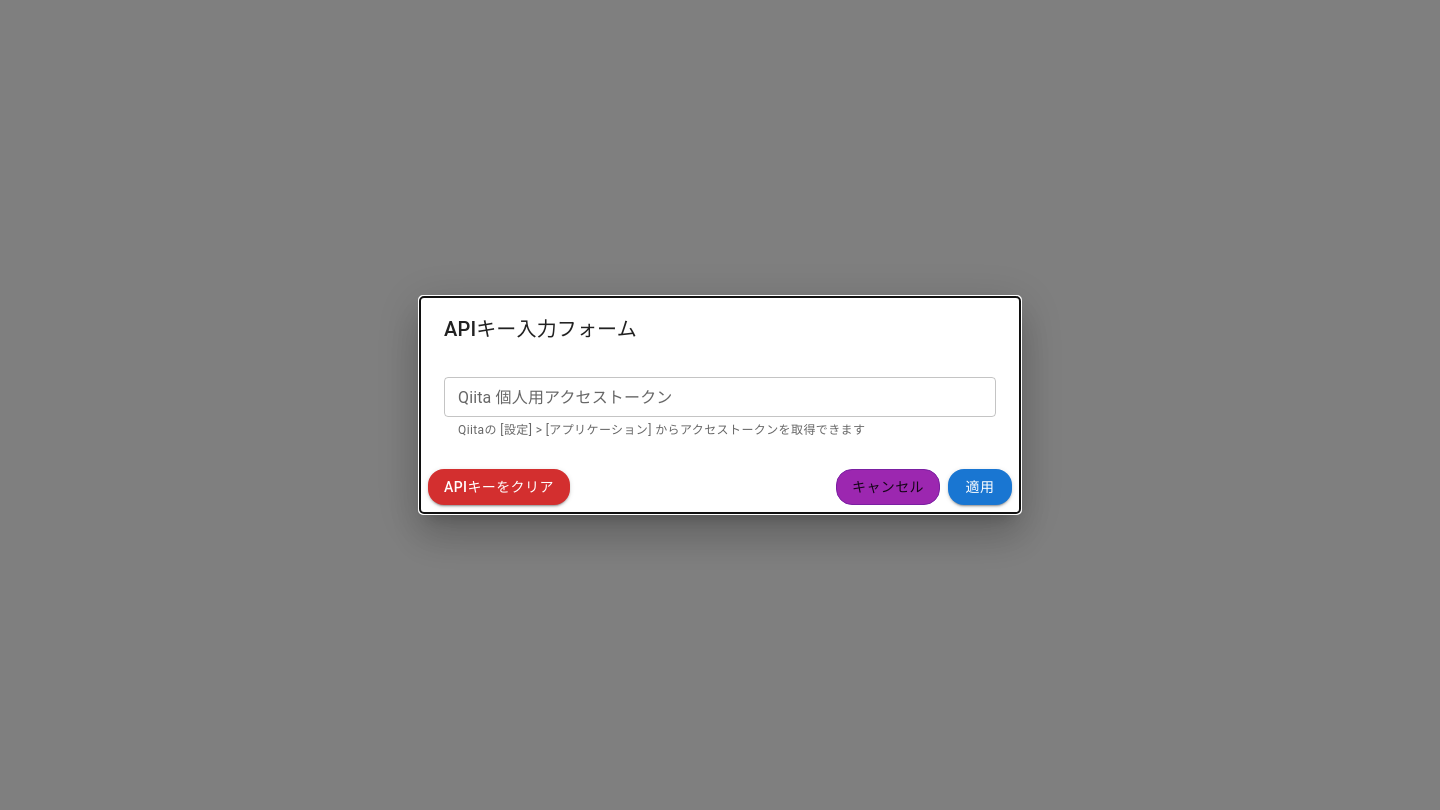
it: ApiKeyForm › shows error when applying with empty input
This screenshot has width=1440, height=810.
# 「適用」をクリック
Click the button "適用" at (980, 487), box [948,469,1012,505]
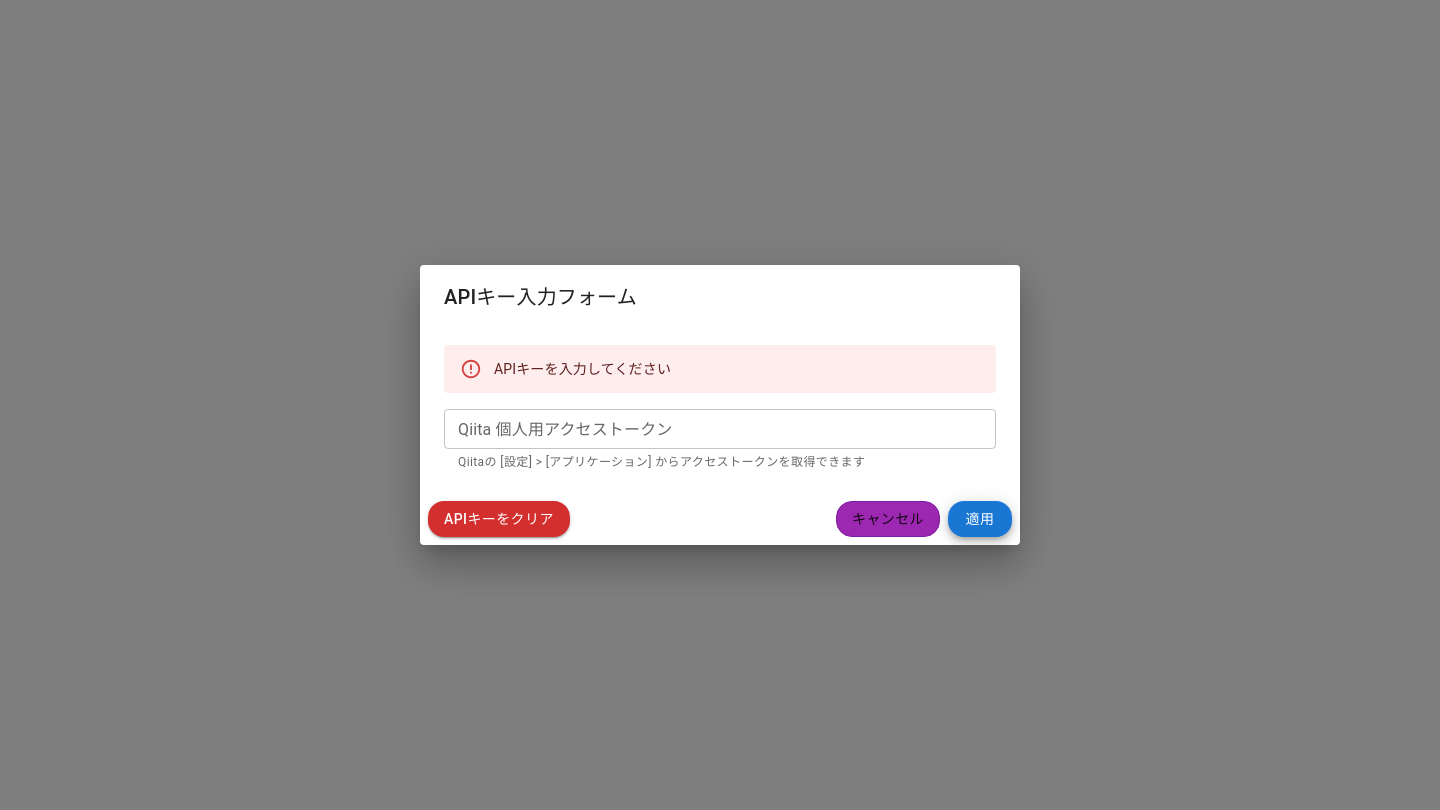
expect the text "APIキーを入力してください" is shown: met, box [494,361,671,377]
